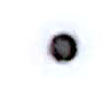cancer: (30, 17, 97, 79)
